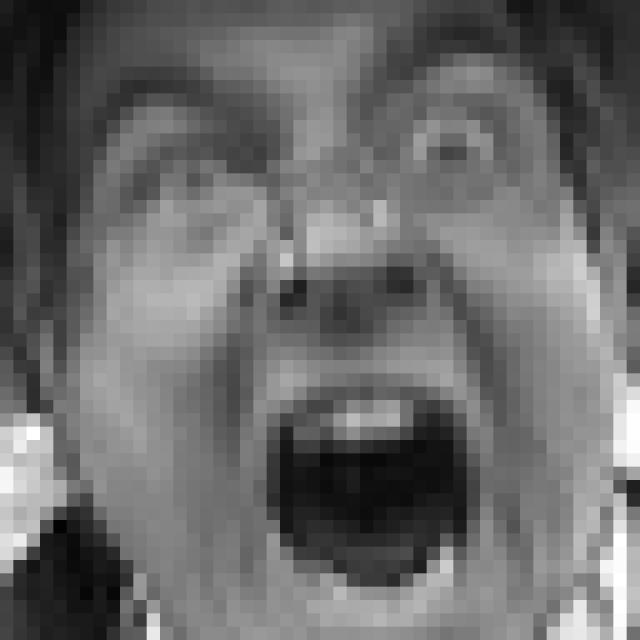angry: (93, 22, 525, 617)
